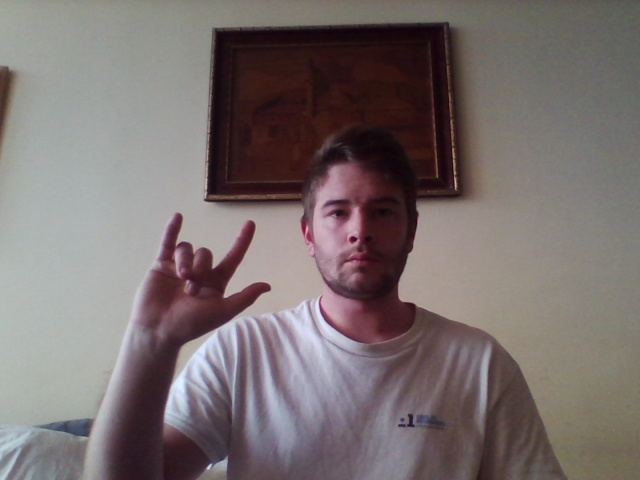volimte: (130, 210, 278, 342)
